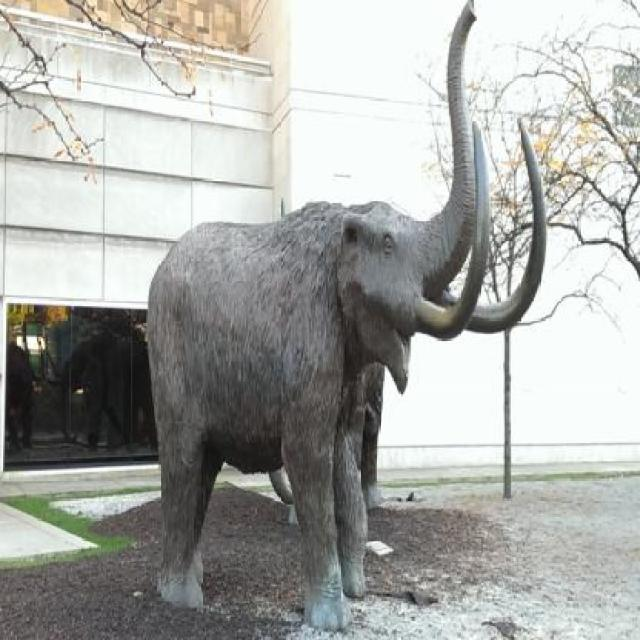Elephant: (147, 0, 547, 631)
